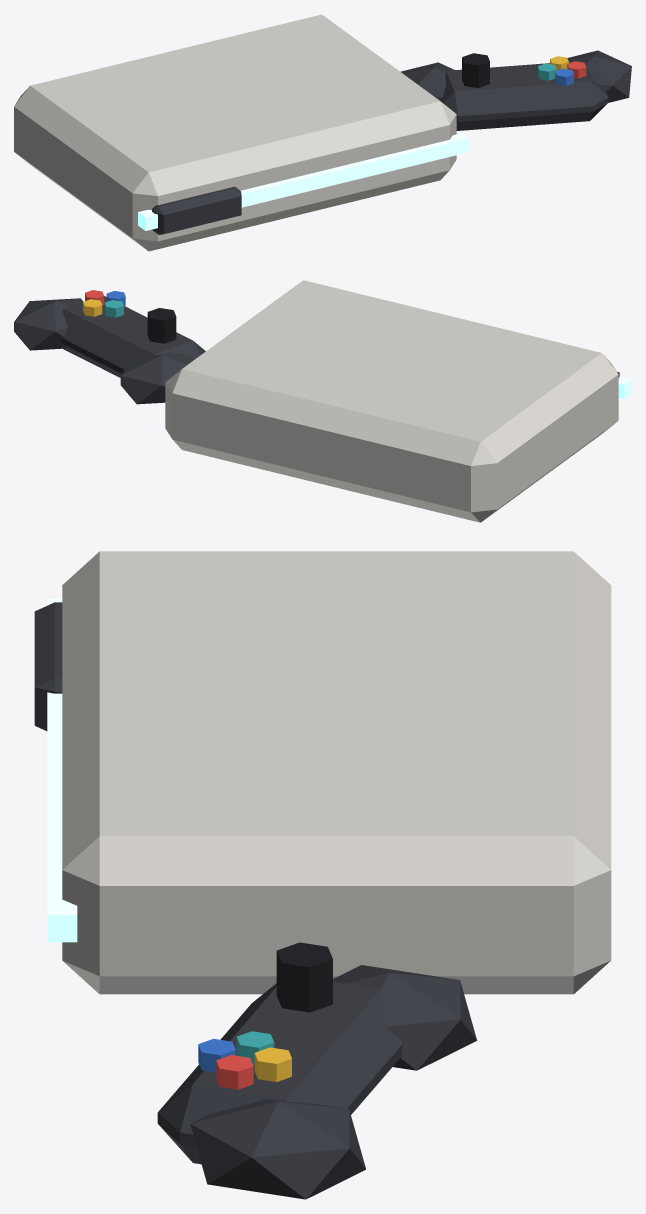
The model's file is game_console.glb.
3 views of the same model, one above another, from view 1: azimuth 30°, elevation 25°; view 2: azimuth 150°, elevation 25°; view 3: azimuth 270°, elevation 25° (orthographic). The views are drawn at different scales.
Parts seen in each view (by area): view 1: game_console; view 2: game_console; view 3: game_console.
Part boxes in pixels (box(x1,y1,x2,y2)): game_console: box(14, 14, 631, 251); game_console: box(14, 280, 631, 522); game_console: box(34, 551, 611, 1199).
Size of the model in its own units: 0.4989 by 0.072 by 0.231.
